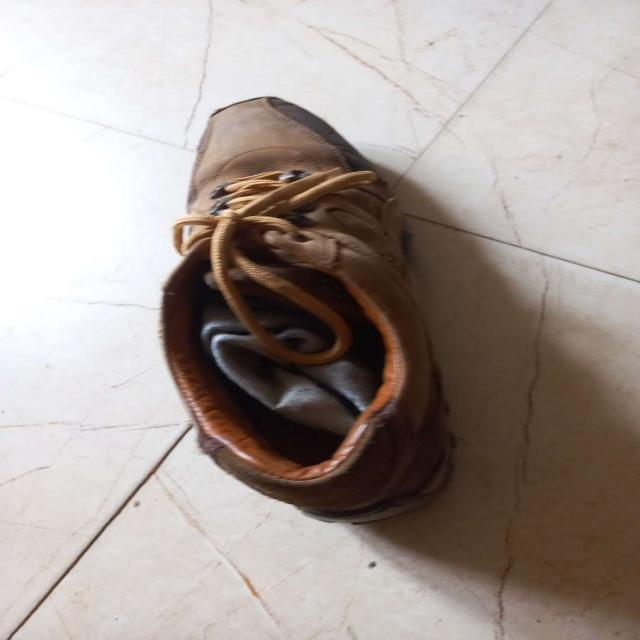shoe: (154, 94, 462, 528)
